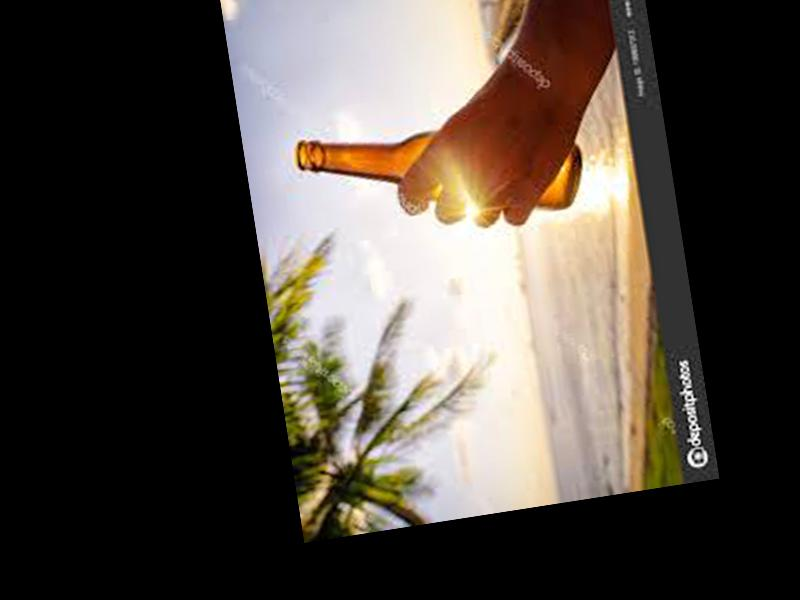Beer: (293, 98, 588, 248)
